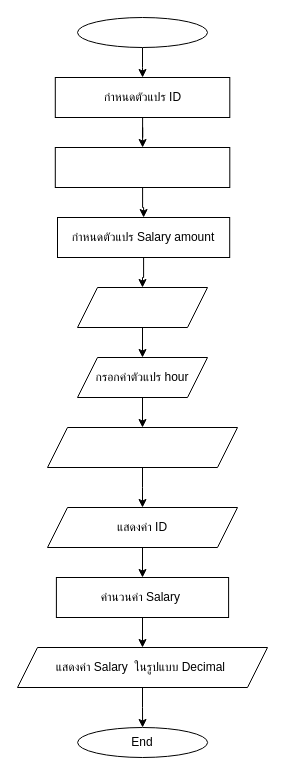
This 285x775 diagram has some shape labels left out. Each missing label, with the box of its shape:
Start: (76, 16, 208, 48)
กรอกค่าตัวแปร ID: (76, 286, 208, 328)
กรอกค่าตัวแปร Salary amount: (46, 426, 238, 468)
กำหนดตัวแปร hour: (54, 146, 230, 188)
